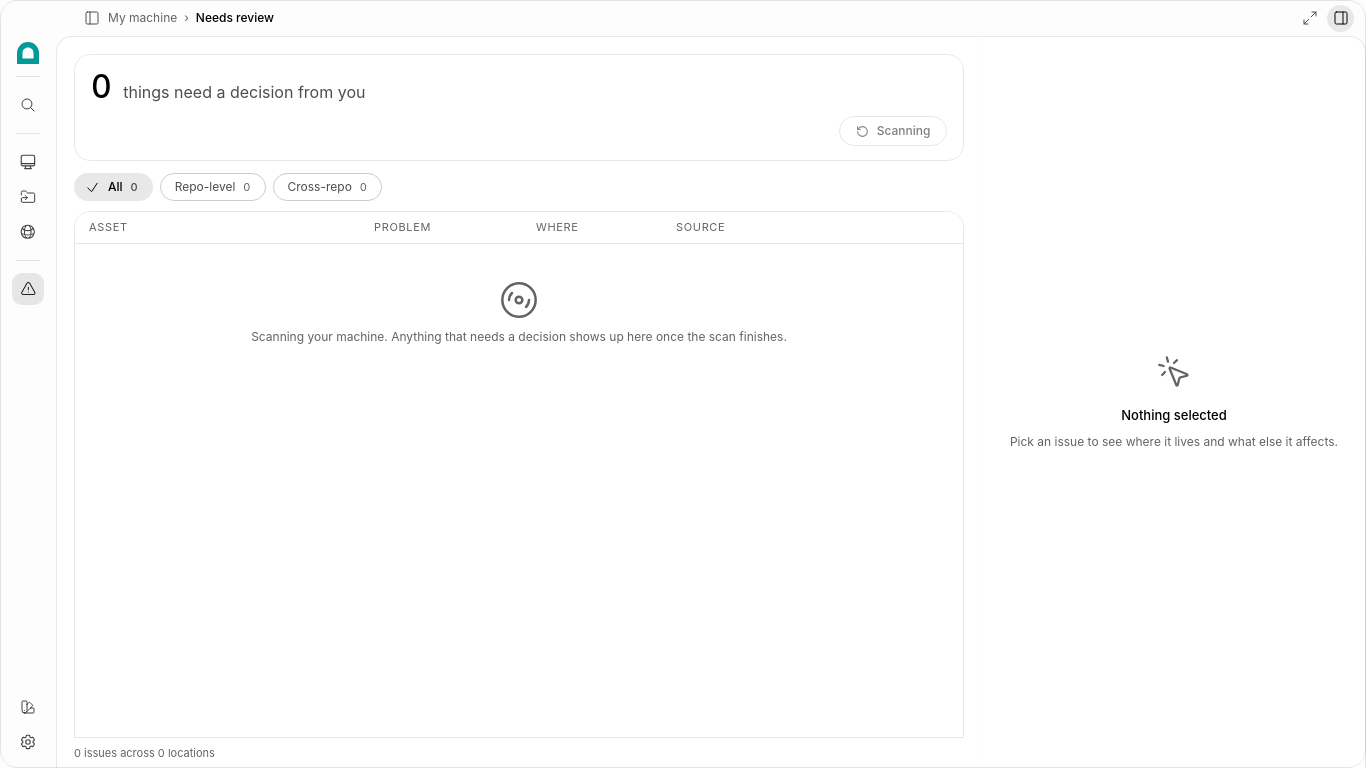
Scenario: The breadcrumb lives in the band › is not rendered while the inspector is expanded — that column's cap carries the identity
Expected: the button named "toggle sidebar" is shown, x1=76 y1=4 x2=108 y2=32
Expected: the text "Needs review" is shown, x1=196 y1=9 x2=274 y2=27
Click the button named "Expand inspector" at (1310, 18), box x1=1296 y1=4 x2=1323 y2=32
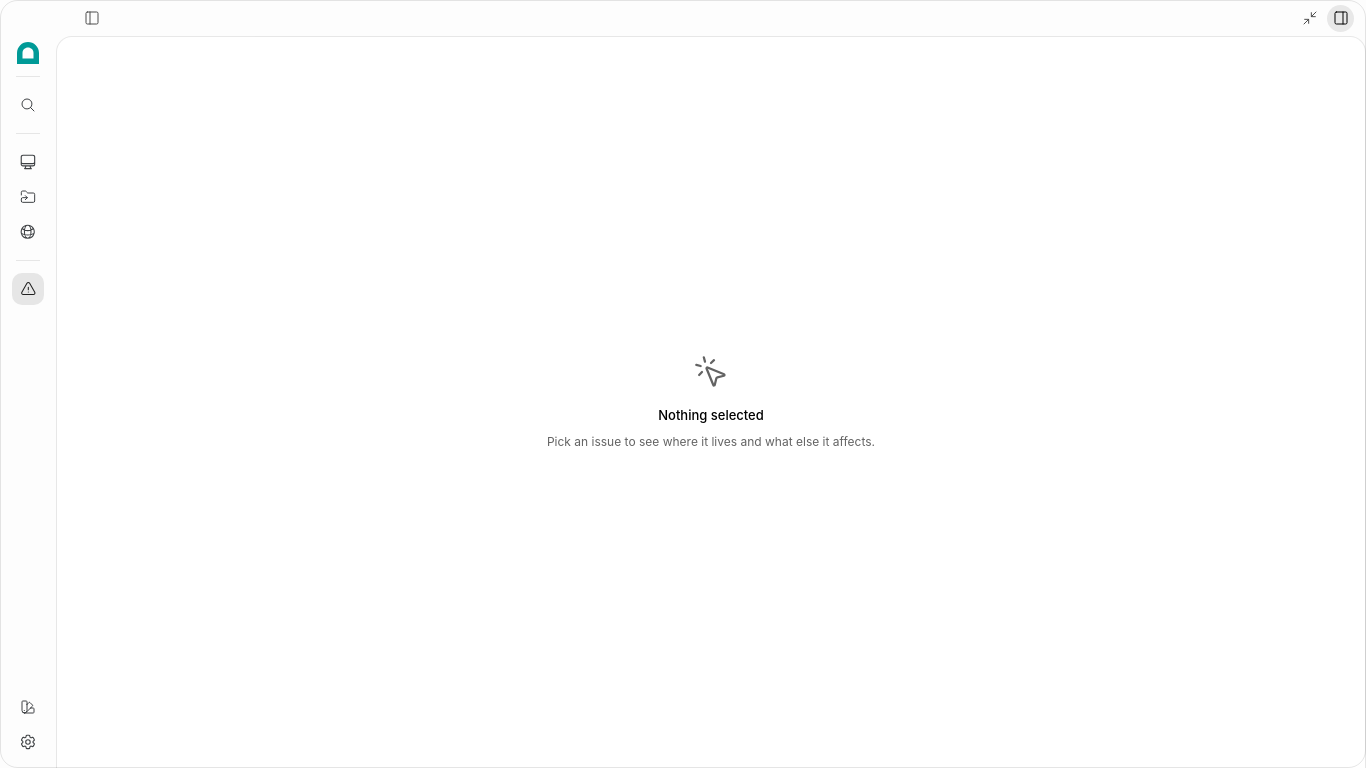
Result: the text "Needs review" is gone
